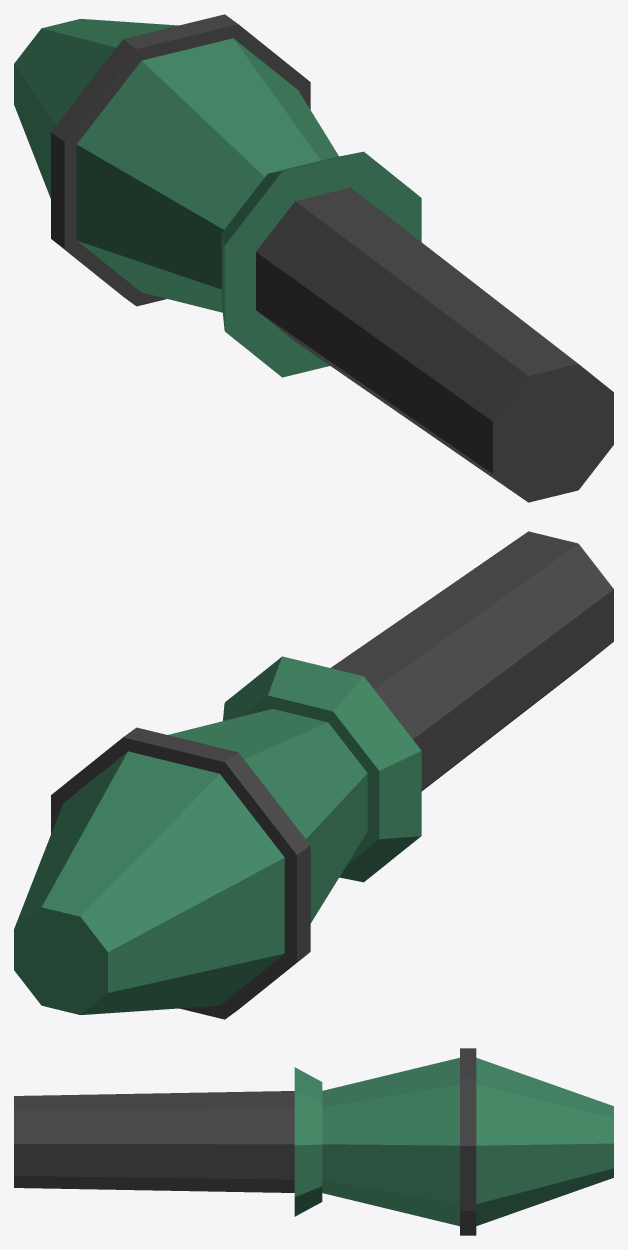
The model's file is ammo_rocket.obj.
3 renders of one model, top to bottom at view 1: azimuth 30°, elevation 25°; view 2: azimuth 150°, elevation 25°; view 3: azimuth 270°, elevation 25°, orthographic. The views are drawn at different scales.
Visible parts, largest first — view 1: ammo_rocket; view 2: ammo_rocket; view 3: ammo_rocket.
Boxes of the visible parts, x1,y1,x2,y2 form: ammo_rocket: (14, 14, 613, 502); ammo_rocket: (14, 531, 613, 1019); ammo_rocket: (14, 1048, 613, 1235).
Bounding box in the file's own units: 0.1203 × 0.1203 × 0.4173.
